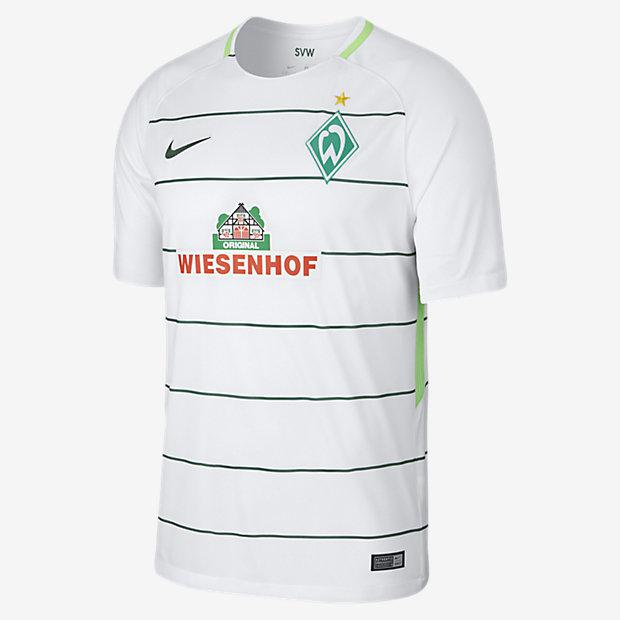teeshirt: (105, 12, 525, 599)
